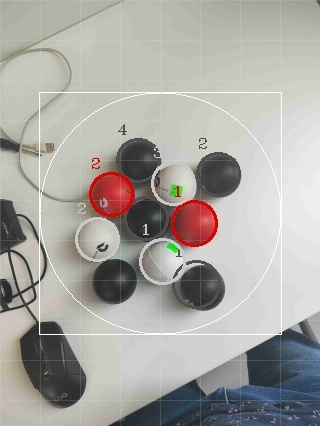Pelota blanca: (0, 44, 73, 144), (18, 126, 102, 203), (169, 260, 225, 312), (137, 236, 185, 286), (74, 214, 121, 264), (196, 150, 241, 198), (151, 161, 198, 206)
Pelota negra: (116, 331, 320, 425), (18, 323, 86, 411), (113, 137, 163, 182), (90, 257, 137, 304), (196, 150, 241, 198), (124, 198, 169, 240)
Pelota roja: (87, 169, 137, 219), (169, 198, 219, 248)
